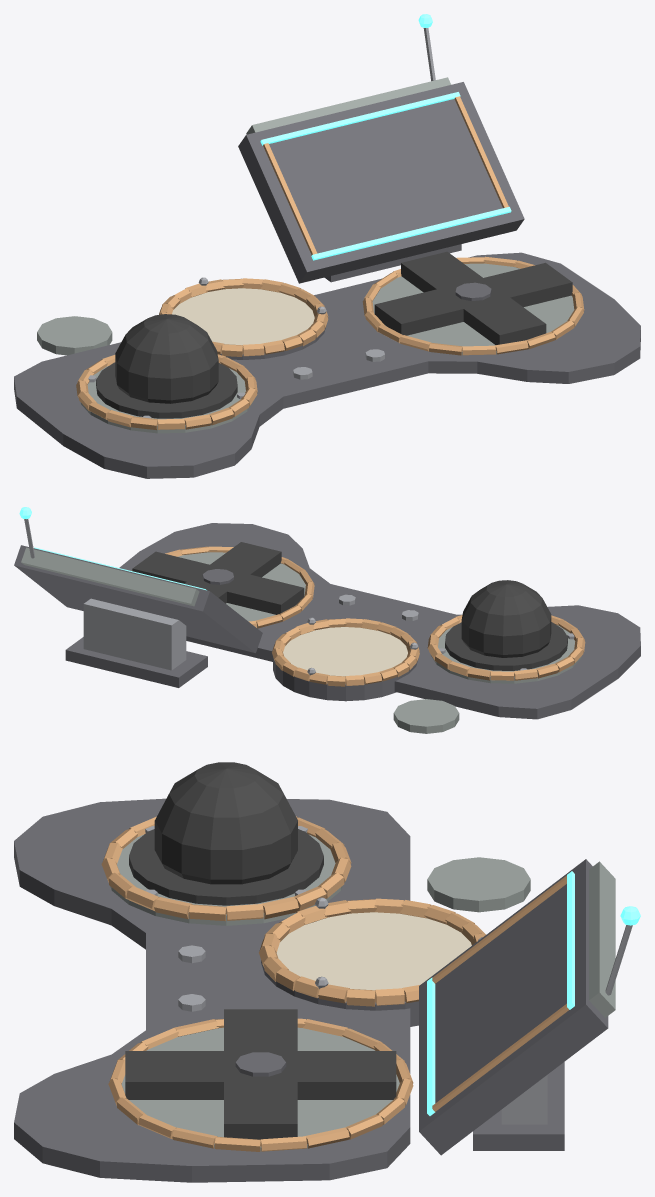
The model's file is leg_controls.glb.
The picture shows the model from 3 angles, top to bottom: view 1: azimuth 30°, elevation 25°; view 2: azimuth 150°, elevation 25°; view 3: azimuth 270°, elevation 25°; orthographic projection. The views are drawn at different scales.
Visible parts, largest first — view 1: LegControls; view 2: LegControls; view 3: LegControls.
Part boxes in pixels (x1,y1,x2,y2): LegControls: (14,14,640,478); LegControls: (14,507,640,733); LegControls: (14,762,640,1182).
Bounding box in the file's own units: 0.76 × 0.2568 × 0.546.
